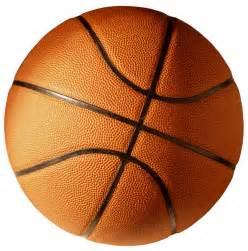basketball: (4, 5, 245, 248)
